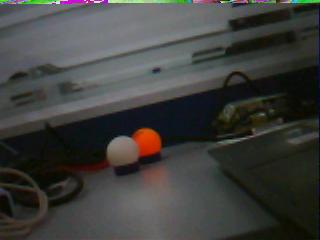oball: (134, 128, 162, 155)
